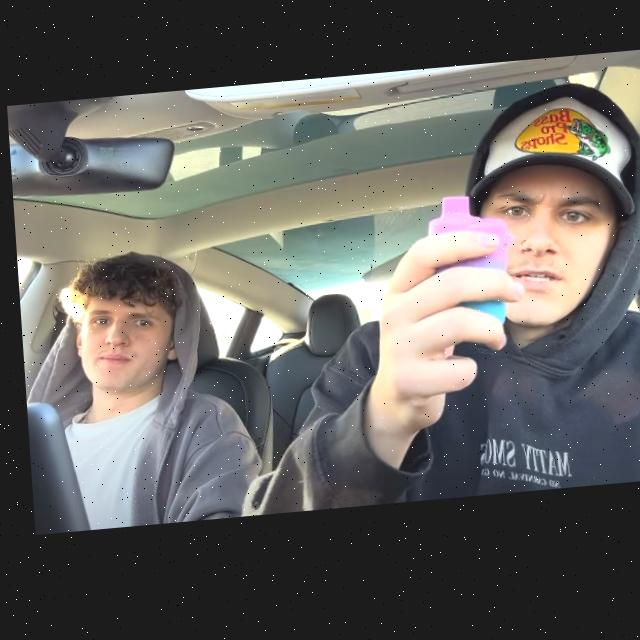vape: (423, 199, 514, 337)
